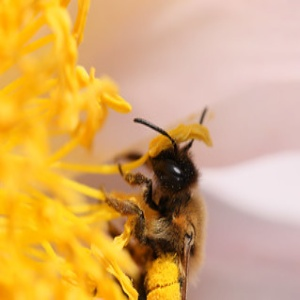bee: (134, 113, 210, 300)
